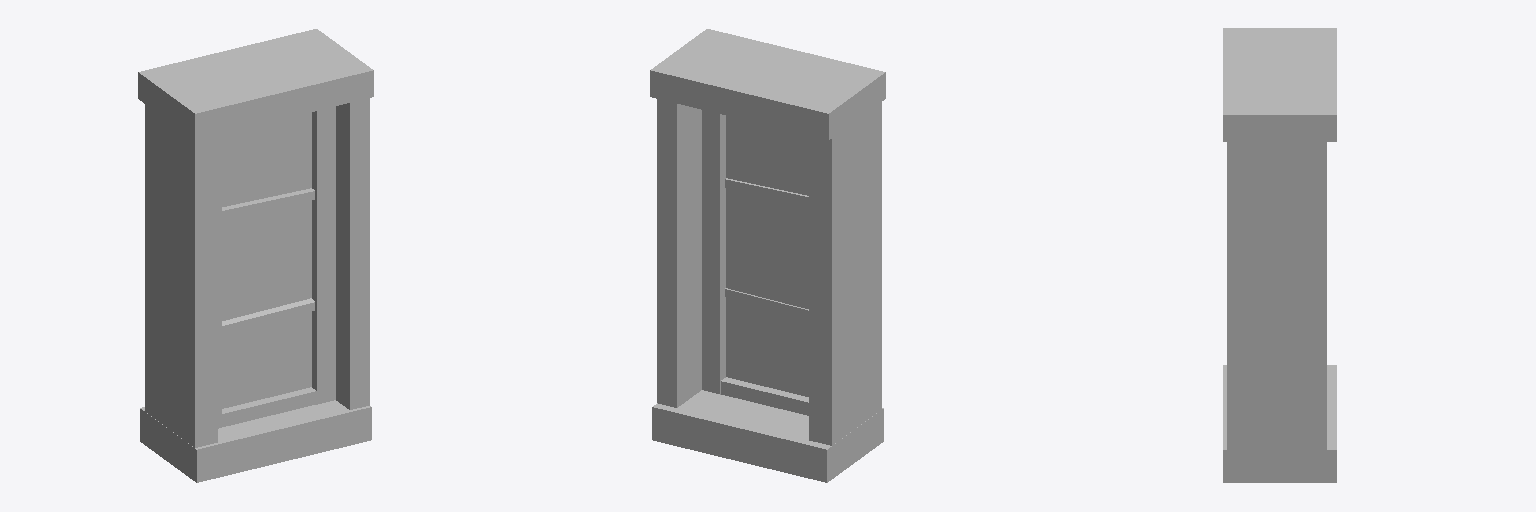
The model's file is Window_Thin_Flat1.obj.
The picture shows the model from 3 angles: view 1: azimuth 30°, elevation 25°; view 2: azimuth 150°, elevation 25°; view 3: azimuth 270°, elevation 25°; orthographic projection.
Parts seen in each view (by area): view 1: Window_Thin_Flat1; view 2: Window_Thin_Flat1; view 3: Window_Thin_Flat1.
Part boxes in pixels (left/top/right/bottom): Window_Thin_Flat1: left=138, top=29, right=373, bottom=482; Window_Thin_Flat1: left=650, top=29, right=885, bottom=482; Window_Thin_Flat1: left=1223, top=28, right=1336, bottom=482.
Bounding box in the file's own units: 0.788 × 1.56 × 0.4357.